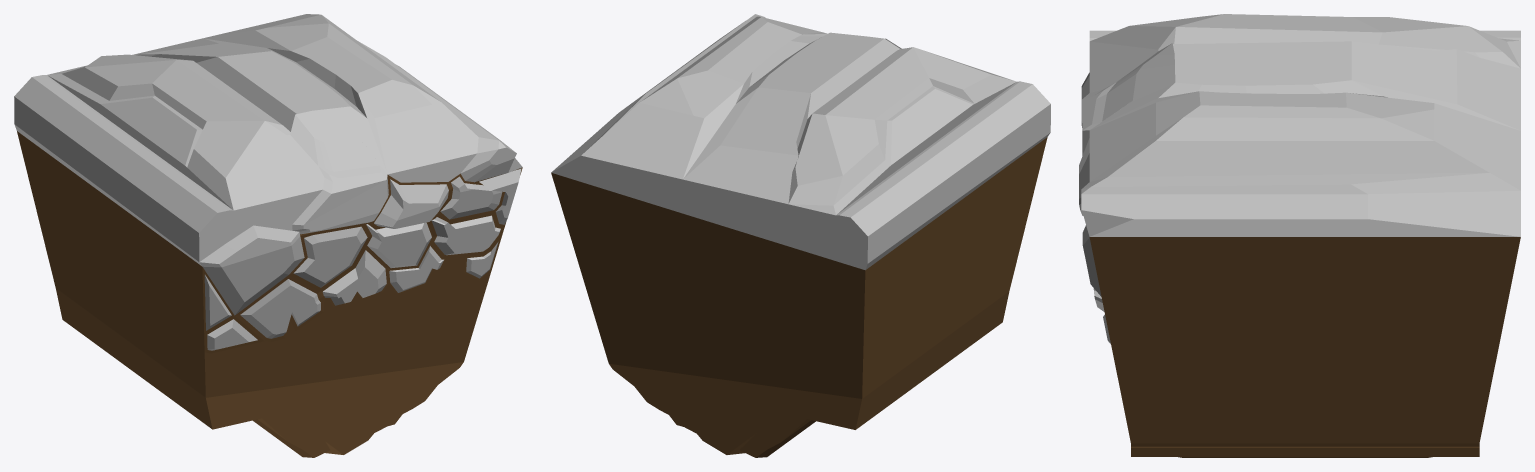
The model's file is PlatformShort.fbx.
The picture shows the model from 3 angles, left to right: view 1: azimuth 30°, elevation 25°; view 2: azimuth 150°, elevation 25°; view 3: azimuth 270°, elevation 25°; orthographic projection. The views are drawn at different scales.
Visible parts, largest first — view 1: Platform_Short; view 2: Platform_Short; view 3: Platform_Short.
Boxes of the visible parts, left/top/right/bottom form: Platform_Short: left=14, top=14, right=522, bottom=457; Platform_Short: left=551, top=14, right=1050, bottom=457; Platform_Short: left=1079, top=14, right=1520, bottom=457.
Bounding box in the file's own units: 283 × 293 × 288.
